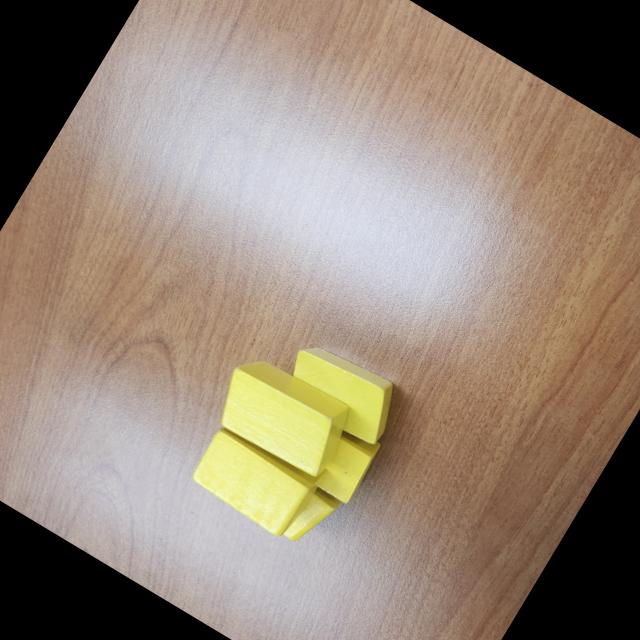yellow: (207, 347, 362, 486), (186, 411, 330, 544), (272, 331, 410, 451), (259, 392, 386, 508), (276, 484, 341, 554)
